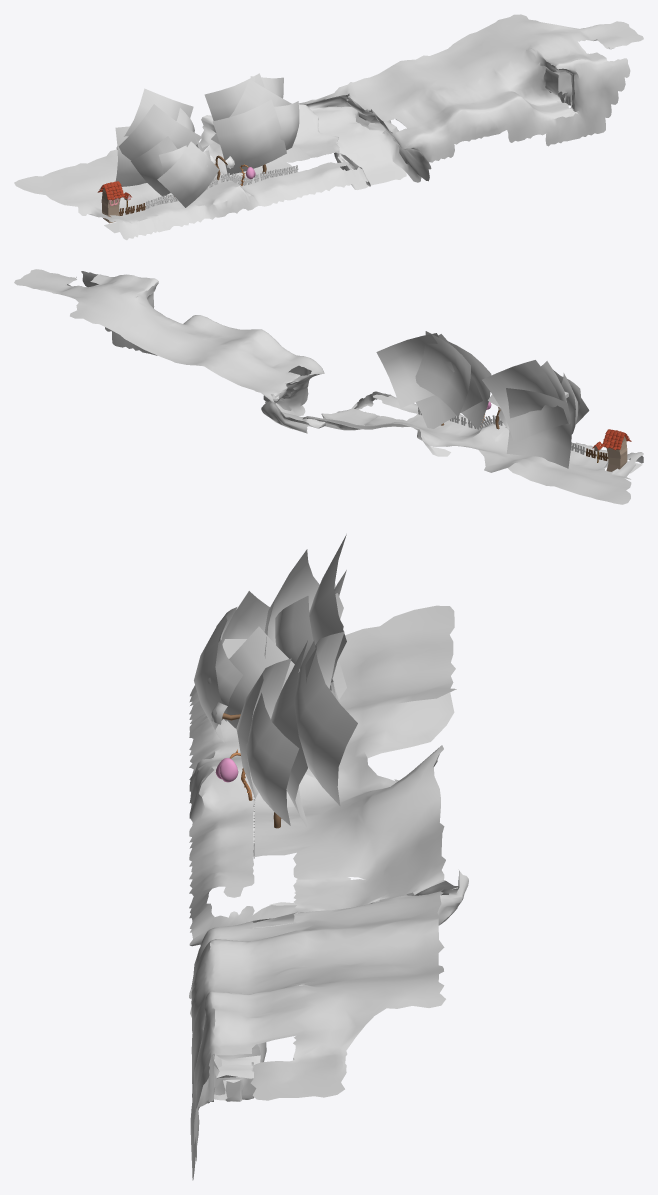
File: TVOAB.fbx
The picture shows the model from 3 angles, top to bottom: view 1: azimuth 30°, elevation 25°; view 2: azimuth 150°, elevation 25°; view 3: azimuth 270°, elevation 25°; orthographic projection. The views are drawn at different scales.
Parts seen in each view (by area): view 1: 3.003, Plane.006, Plane.015, Plane.018, Plane.014, Plane.017, Pig Tower, Plane.016; view 2: 3.003, Plane.006, Plane.018, Plane.016, Plane.014, Plane.015, Pig Tower; view 3: 3.003, Plane.006, Plane.016, Plane.017, Plane.014, Plane.015, Plane.018.
Part boxes in pixels (bbox=[...]): 3.003: bbox=[14, 14, 643, 240]; Plane.006: bbox=[115, 88, 219, 207]; Plane.015: bbox=[212, 99, 286, 174]; Plane.018: bbox=[204, 73, 264, 120]; Plane.014: bbox=[211, 79, 291, 144]; Plane.017: bbox=[274, 101, 299, 150]; Pig Tower: bbox=[101, 183, 120, 223]; Plane.016: bbox=[250, 76, 283, 98]; 3.003: bbox=[14, 269, 643, 504]; Plane.006: bbox=[482, 360, 589, 468]; Plane.018: bbox=[415, 331, 470, 417]; Plane.016: bbox=[376, 333, 454, 408]; Plane.014: bbox=[415, 334, 482, 428]; Plane.015: bbox=[448, 341, 491, 429]; Pig Tower: bbox=[606, 432, 627, 471]; 3.003: bbox=[189, 605, 468, 1180]; Plane.006: bbox=[194, 534, 346, 742]; Plane.016: bbox=[294, 640, 357, 805]; Plane.017: bbox=[246, 692, 299, 825]; Plane.014: bbox=[271, 640, 307, 827]; Plane.015: bbox=[236, 658, 291, 800]; Plane.018: bbox=[305, 631, 344, 763].
Bounding box in the file's own units: 6139 × 1309 × 1273.
